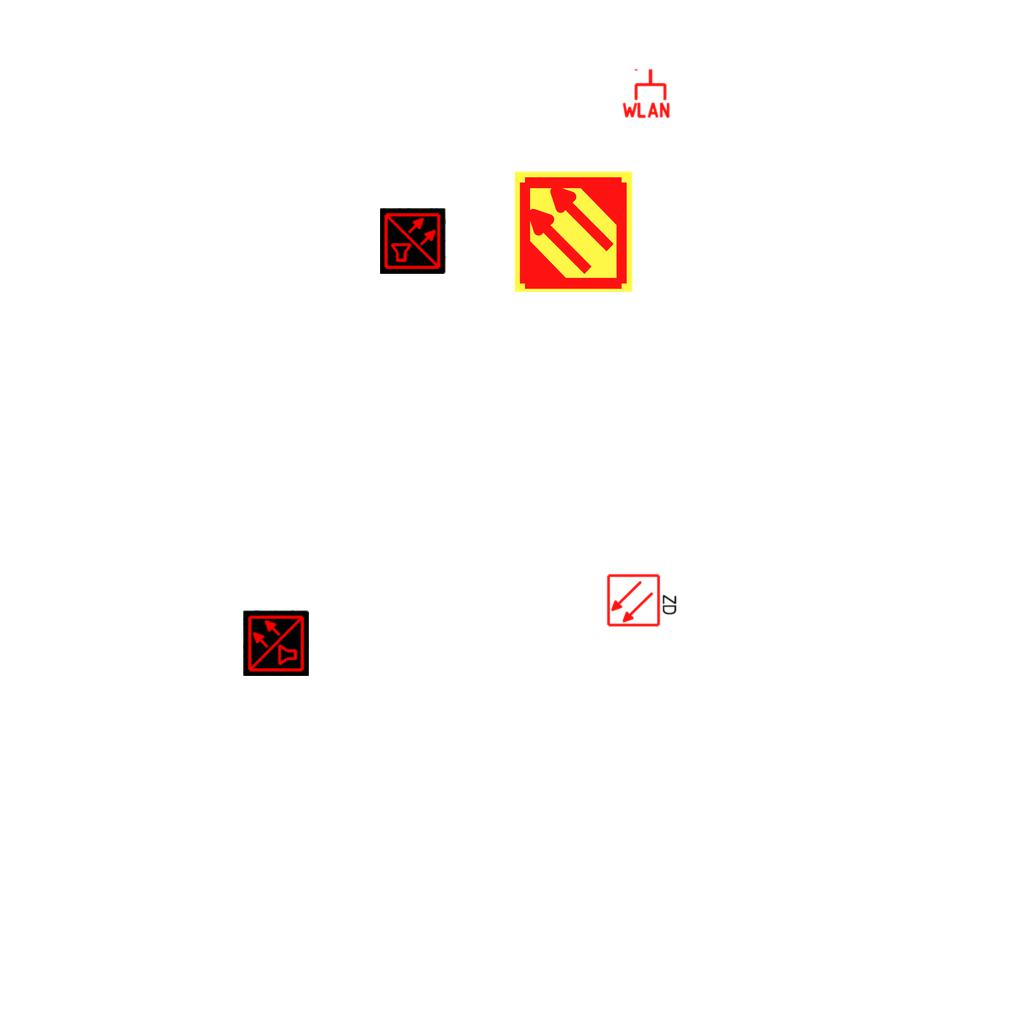ASR_Ansaugrauchmelder: (511, 169, 636, 294)
OKW_Multisensormelder_(Kombination_optischer_Rauch-Kahlenmonoxid_Waerme-Melder): (380, 208, 446, 274), (243, 610, 309, 676)
WLAN: (620, 67, 672, 119)
ZD_Melder_in_Zwischendecke_mit_Revisionsoeffnung_mind_40_x_40_cm: (606, 571, 680, 628)
